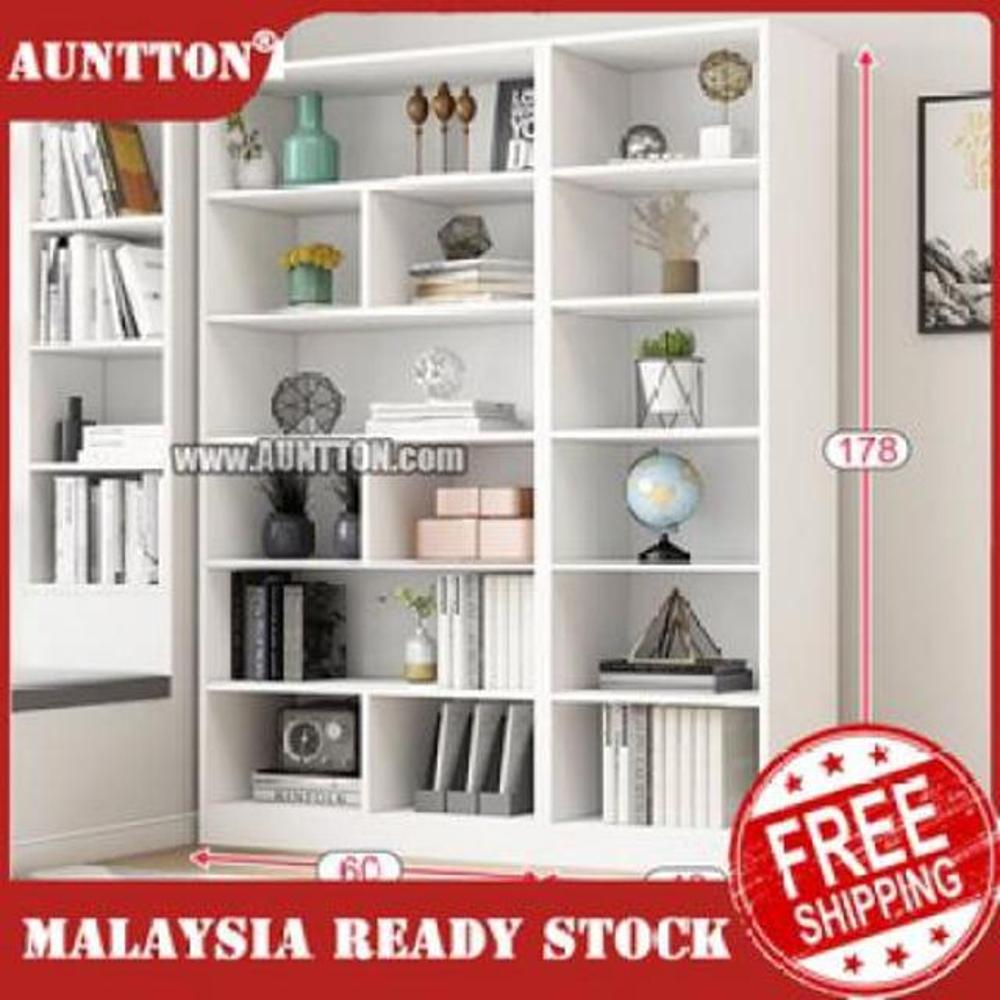lamp: (188, 17, 841, 882), (1, 8, 293, 696)
